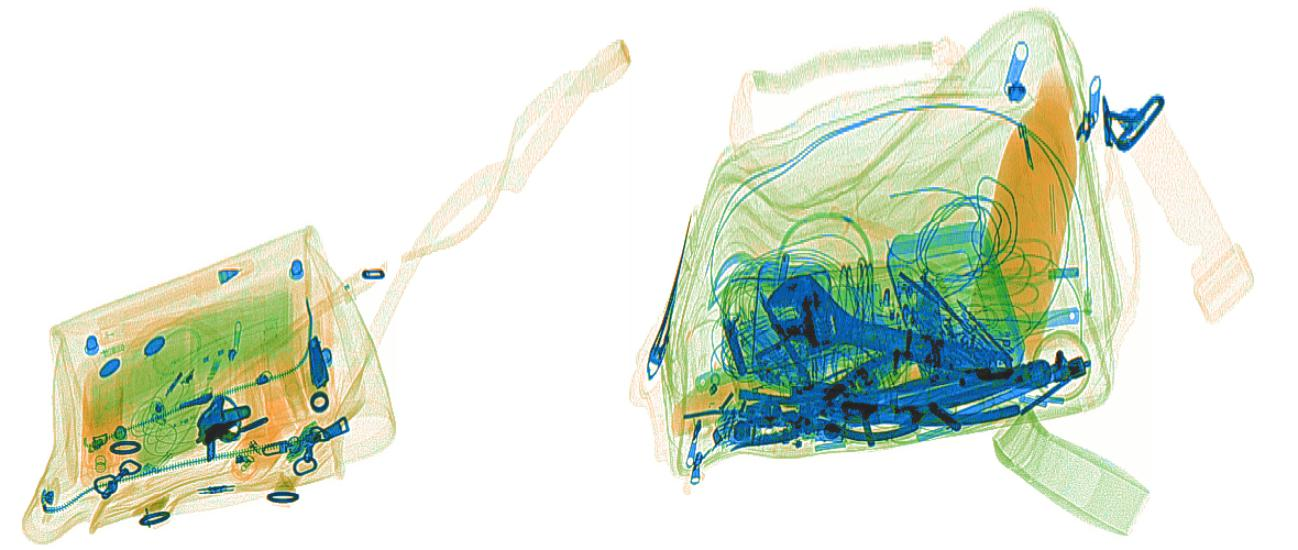plasticBottleWithaNozzle: (78, 360, 125, 489), (224, 419, 285, 485)
